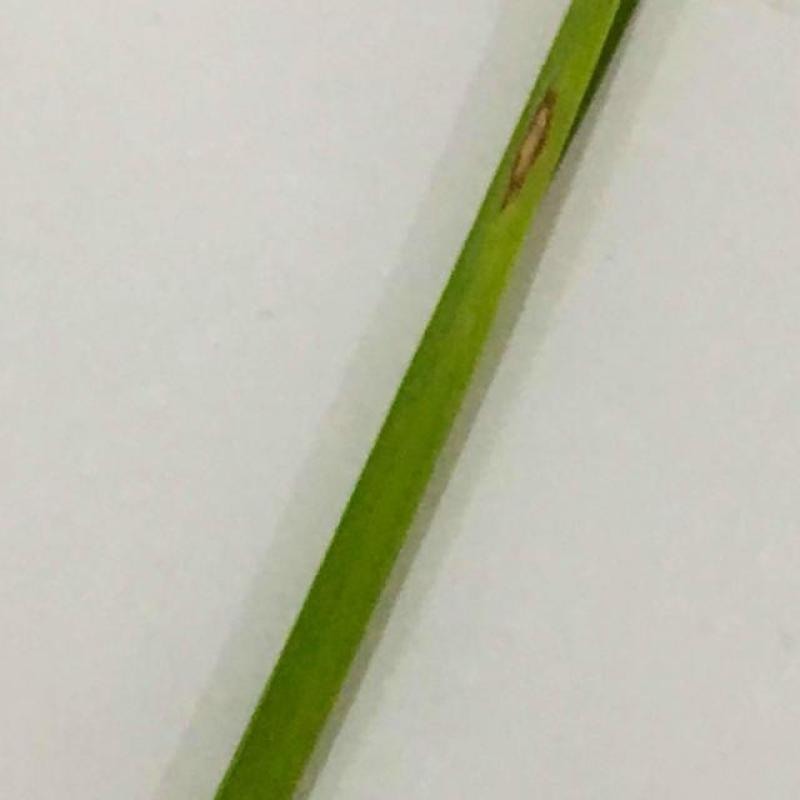Leaf_Blast: (507, 61, 555, 274)
